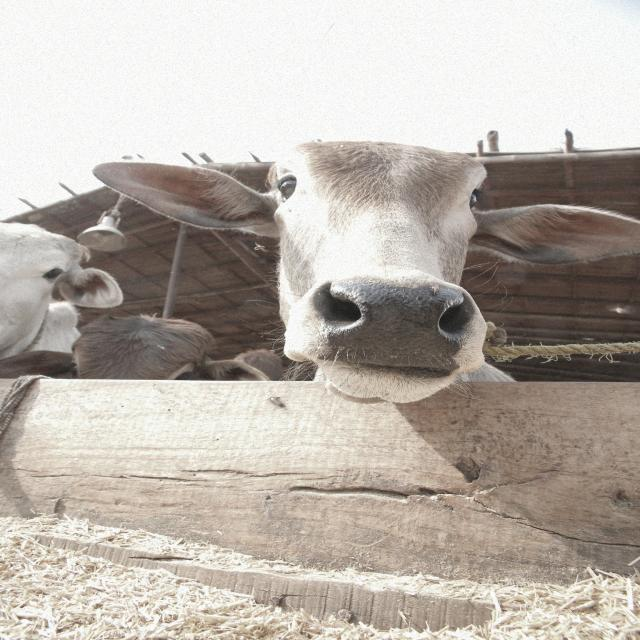muzzles: (292, 269, 479, 374)
